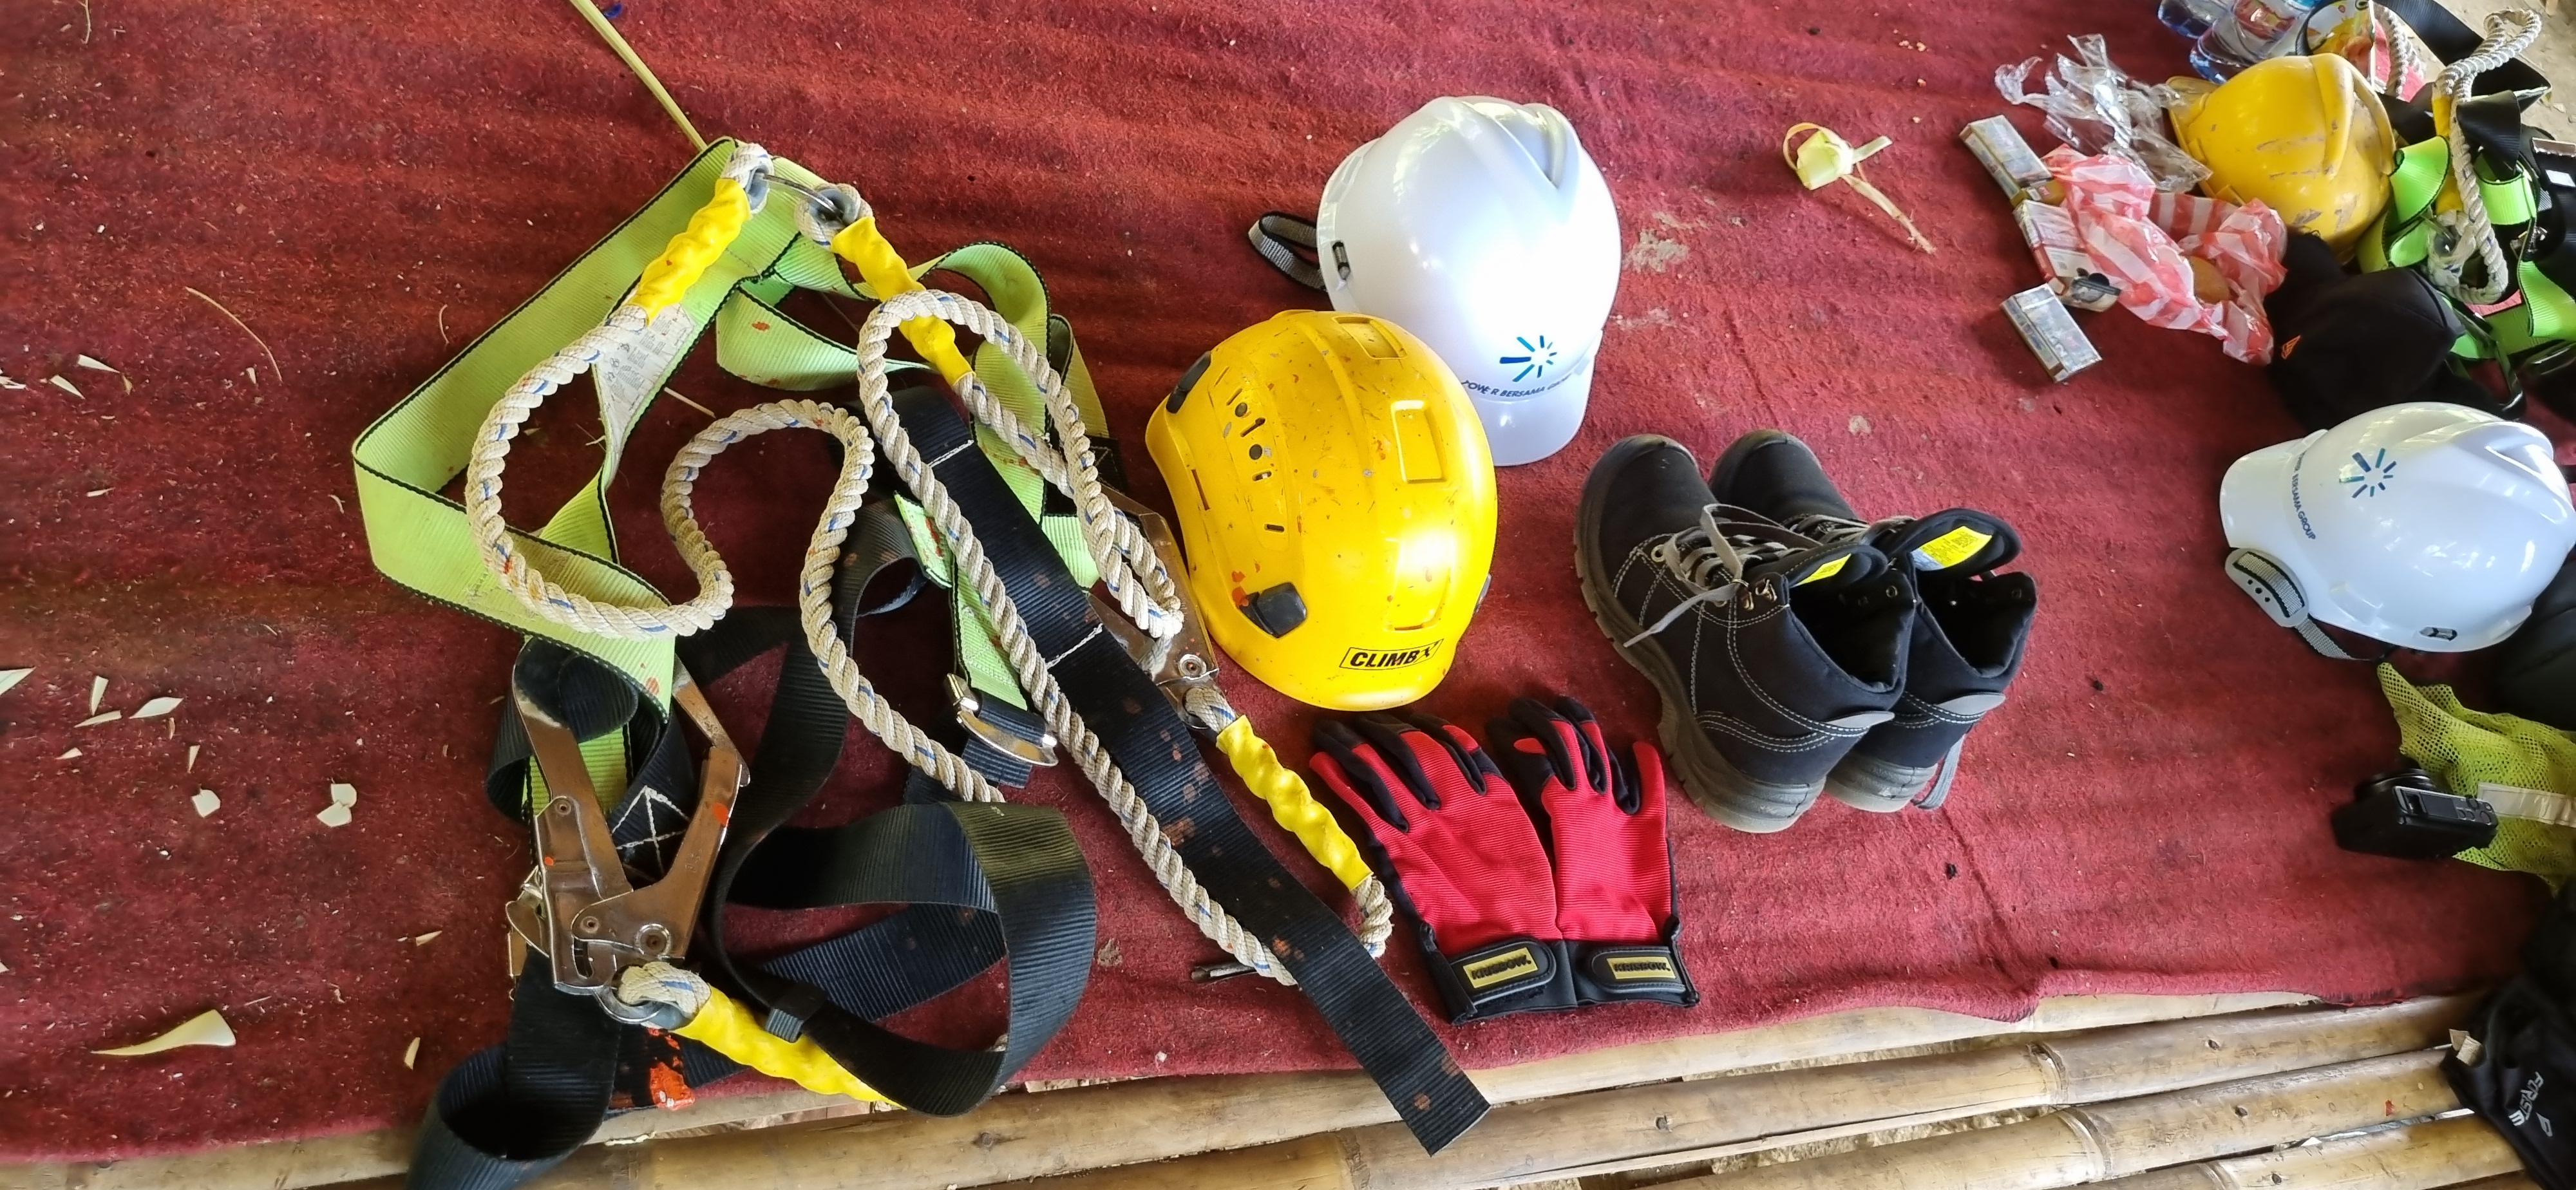SARUNG_TANGAN: (1426, 702, 1649, 1004)
TAMBANG_SLING: (516, 242, 1061, 1116)
